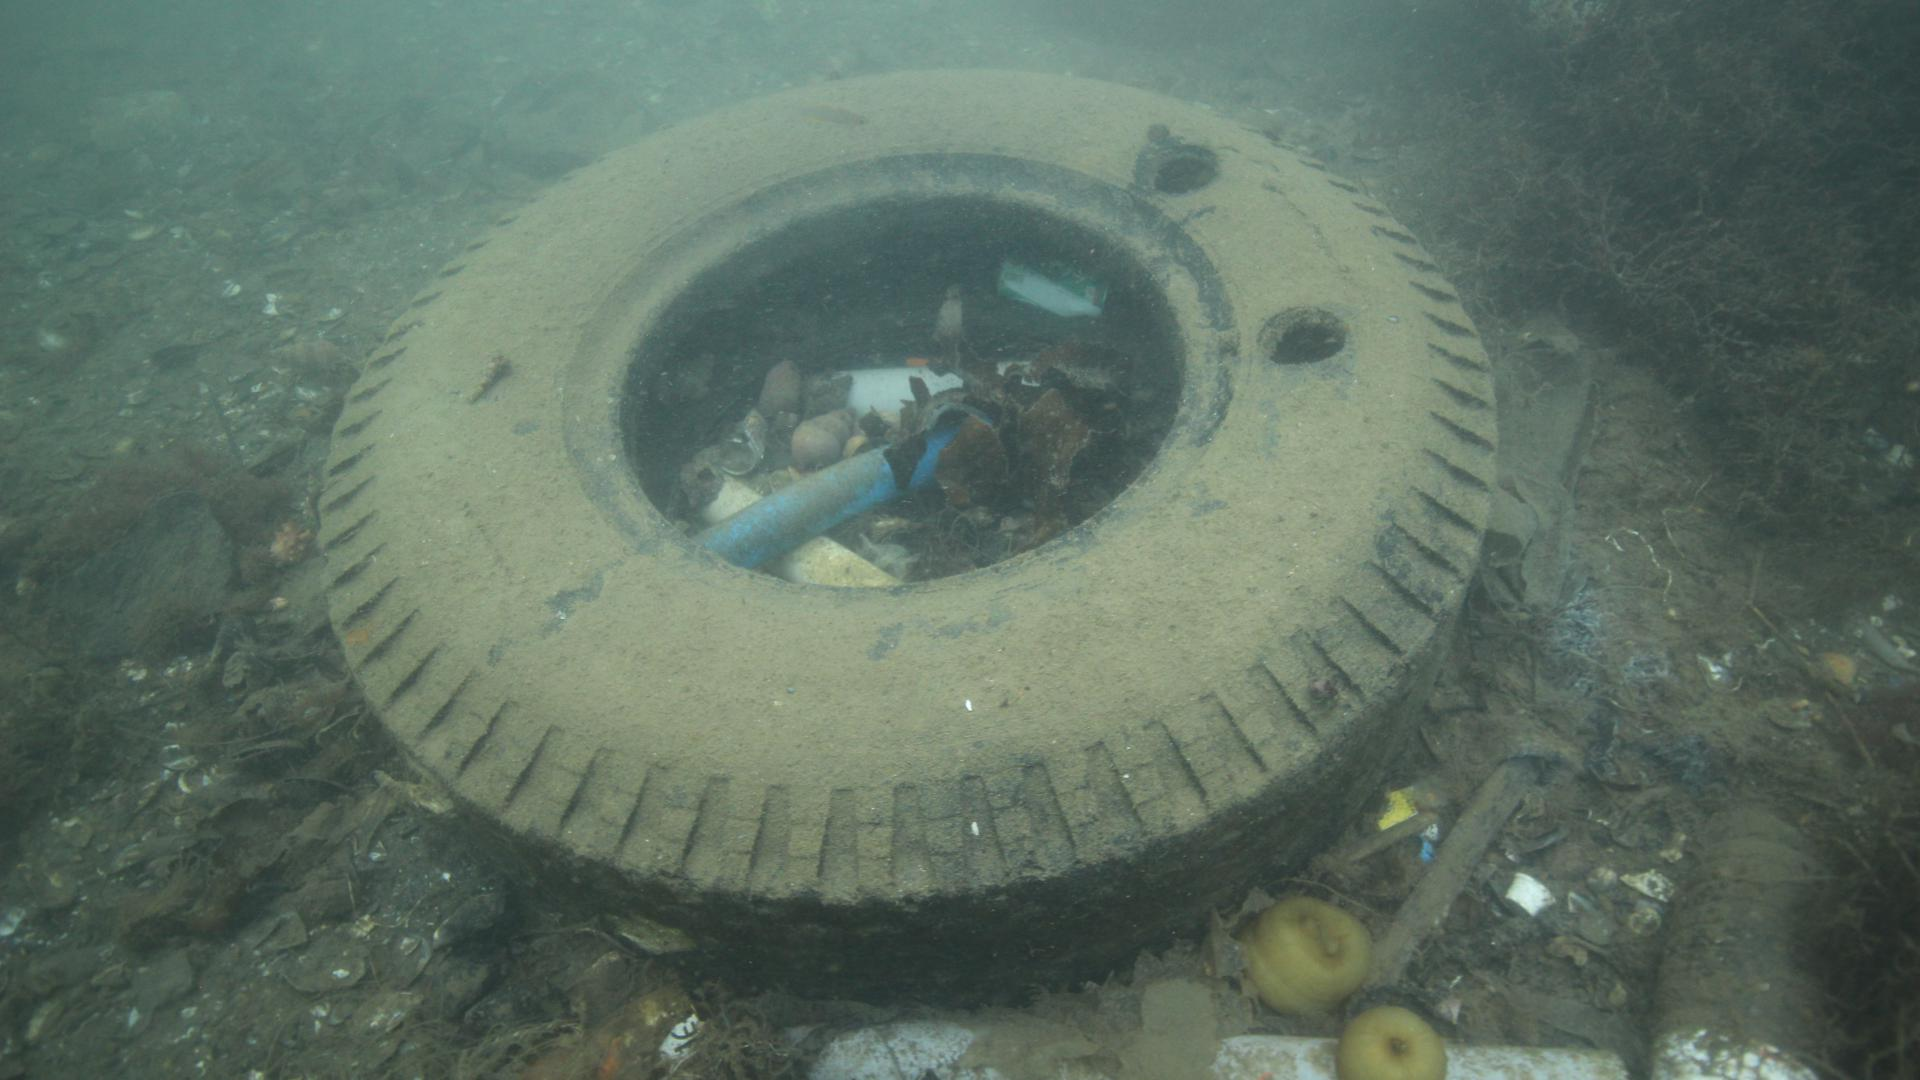tire: (315, 65, 1499, 1018)
